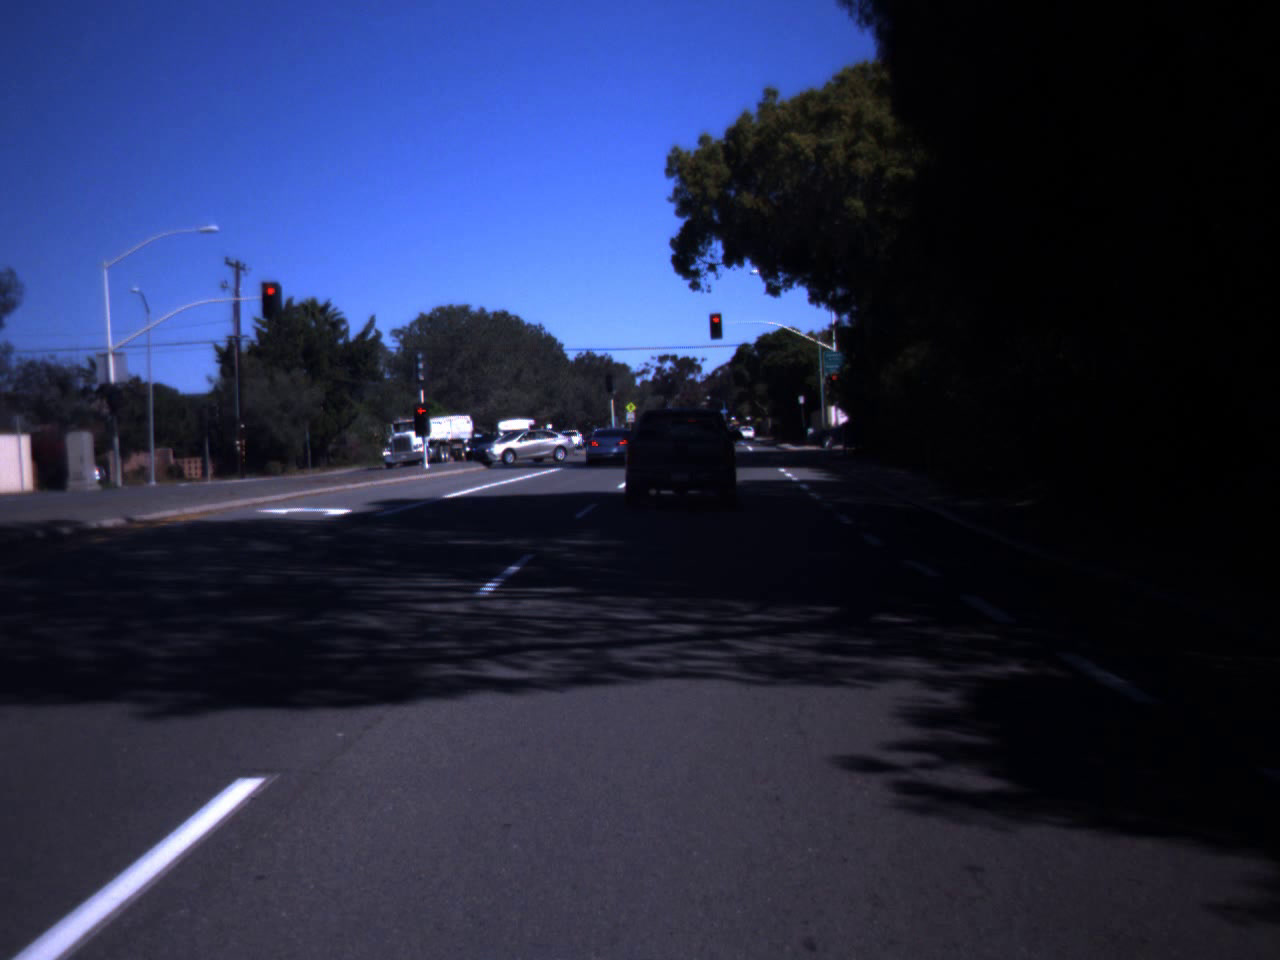stop: (826, 365, 844, 410), (262, 285, 280, 312), (411, 405, 432, 427), (710, 316, 722, 334)
